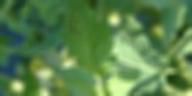Tomato leaf bacterial spot: (59, 0, 120, 83)
